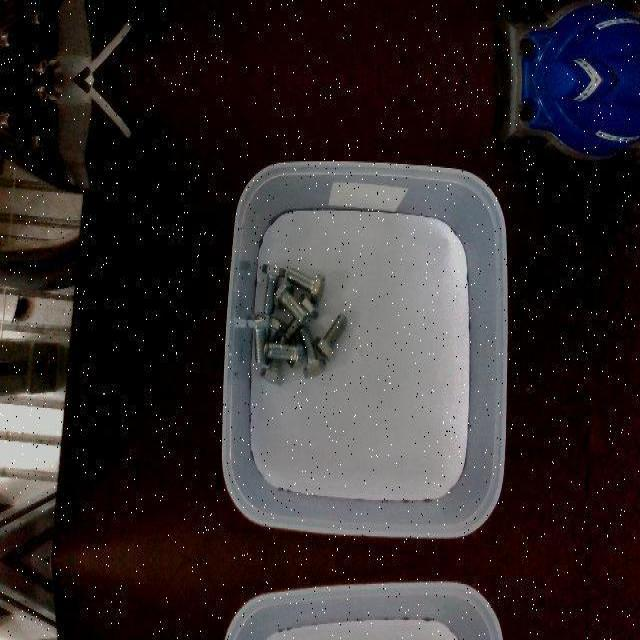screw: (314, 312, 347, 360), (274, 282, 309, 324), (286, 268, 325, 304), (264, 338, 304, 370), (262, 263, 285, 313)
